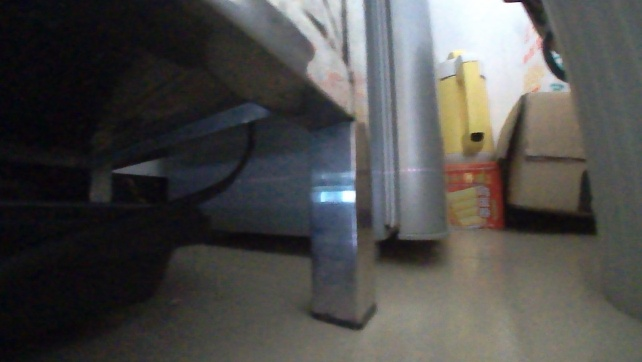refrigerator1: (158, 0, 454, 247)
wire: (144, 123, 258, 220)
